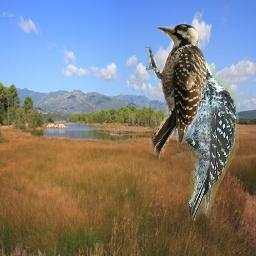Woodpecker: (177, 57, 239, 221), (144, 20, 208, 162)
